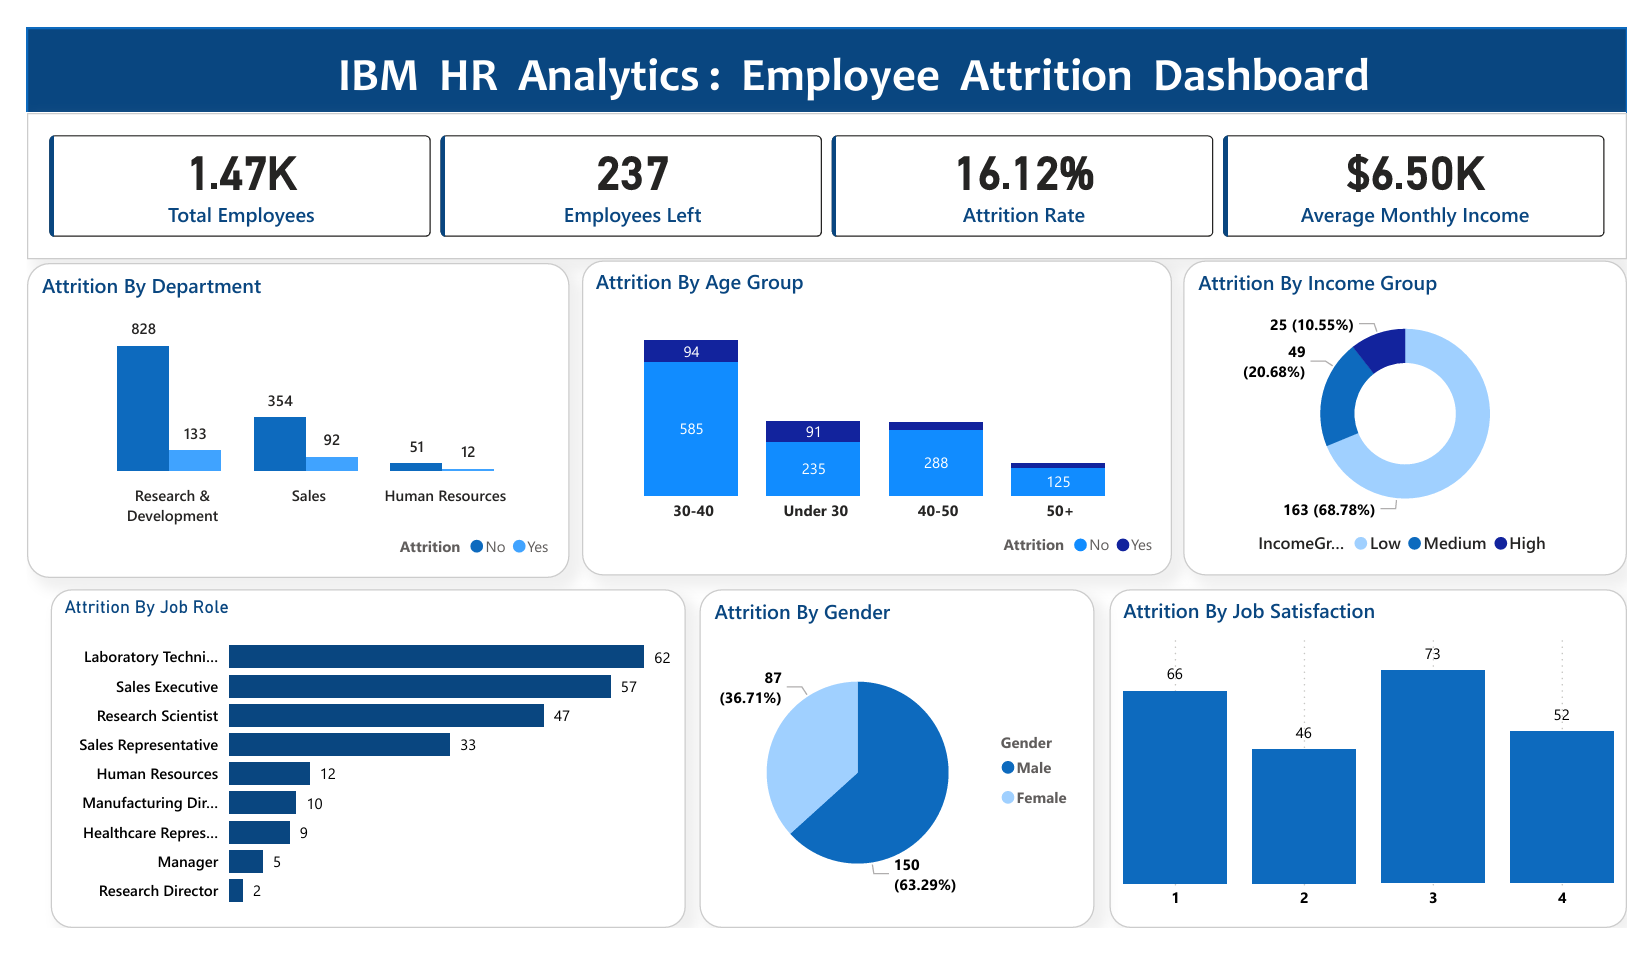

The page's visual inventory and layout, read from the dashboard file:
{"tool":"powerbi","page":{"name":"Page 1","canvas":[1280,720],"ordinal":0},"visuals":[{"type":"shape","box":[0,0,1280.3,75.5],"z":0},{"type":"textbox","box":[223.9,9.4,875.6,66.1],"z":1000},{"type":"cardVisual","fields":{"Data":["WA_Fn-UseC_-HR-Employee-Attriti.Total Employees","WA_Fn-UseC_-HR-Employee-Attriti.Employees Left","WA_Fn-UseC_-HR-Employee-Attriti.Attrition Rate","WA_Fn-UseC_-HR-Employee-Attriti.Average Monthly Income"]},"box":[0,67.8,1280.2,116.9],"z":2000},{"type":"clusteredColumnChart","title":"Attrition By Department","fields":{"Category":["WA_Fn-UseC_-HR-Employee-Attriti.Department"],"Y":["CountNonNull(WA_Fn-UseC_-HR-Employee-Attriti.EmployeeNumber)"],"Series":["WA_Fn-UseC_-HR-Employee-Attriti.Attrition"]},"box":[0,187.5,434.4,252.3],"z":3000},{"type":"columnChart","title":"Attrition By Age Group","fields":{"Category":["WA_Fn-UseC_-HR-Employee-Attriti.AgeGroup"],"Y":["CountNonNull(WA_Fn-UseC_-HR-Employee-Attriti.EmployeeNumber)"],"Series":["WA_Fn-UseC_-HR-Employee-Attriti.Attrition"]},"box":[443.7,186.1,472.1,252.3],"z":4000},{"type":"donutChart","title":"Attrition By Income Group","fields":{"Y":["CountNonNull(WA_Fn-UseC_-HR-Employee-Attriti.EmployeeNumber)"],"Category":["WA_Fn-UseC_-HR-Employee-Attriti.IncomeGroup"]},"box":[925.5,186.2,354.8,252.3],"z":5000},{"type":"clusteredBarChart","title":"Attrition By Job Role","fields":{"Category":["WA_Fn-UseC_-HR-Employee-Attriti.JobRole"],"Y":["CountNonNull(WA_Fn-UseC_-HR-Employee-Attriti.EmployeeNumber)"]},"box":[18.9,449.2,508.6,271.2],"z":5001},{"type":"clusteredColumnChart","title":"Attrition By Job Satisfaction","fields":{"Category":["WA_Fn-UseC_-HR-Employee-Attriti.JobSatisfaction"],"Y":["CountNonNull(WA_Fn-UseC_-HR-Employee-Attriti.EmployeeNumber)"]},"box":[866.1,449.2,414.2,271.2],"z":5002},{"type":"pieChart","title":"Attrition By Gender","fields":{"Y":["CountNonNull(WA_Fn-UseC_-HR-Employee-Attriti.EmployeeNumber)"],"Category":["WA_Fn-UseC_-HR-Employee-Attriti.Gender"]},"box":[538.3,449.2,315.7,271.2],"z":5003}]}

Visuals, with their boxes in screenshot pixels (x1, y1, x2, y2), scaled from the page's 1280x720 canvas onto the 1651x953 screenshot:
shape: Rect(0, 0, 1650, 100)
textbox: Rect(289, 12, 1418, 100)
cardVisual - WA_Fn-UseC_-HR-Employee-Attriti.Total Employees x WA_Fn-UseC_-HR-Employee-Attriti.Employees Left: Rect(0, 90, 1650, 244)
"Attrition By Department" clusteredColumnChart: Rect(0, 248, 560, 582)
"Attrition By Age Group" columnChart: Rect(572, 246, 1181, 580)
"Attrition By Income Group" donutChart: Rect(1194, 246, 1650, 580)
"Attrition By Job Role" clusteredBarChart: Rect(24, 595, 680, 952)
"Attrition By Job Satisfaction" clusteredColumnChart: Rect(1117, 595, 1650, 952)
"Attrition By Gender" pieChart: Rect(694, 595, 1102, 952)
